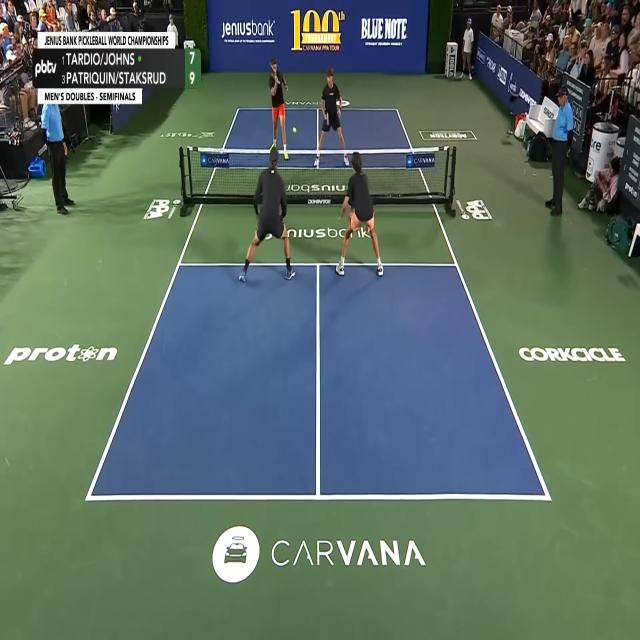ball: (292, 126, 297, 133)
